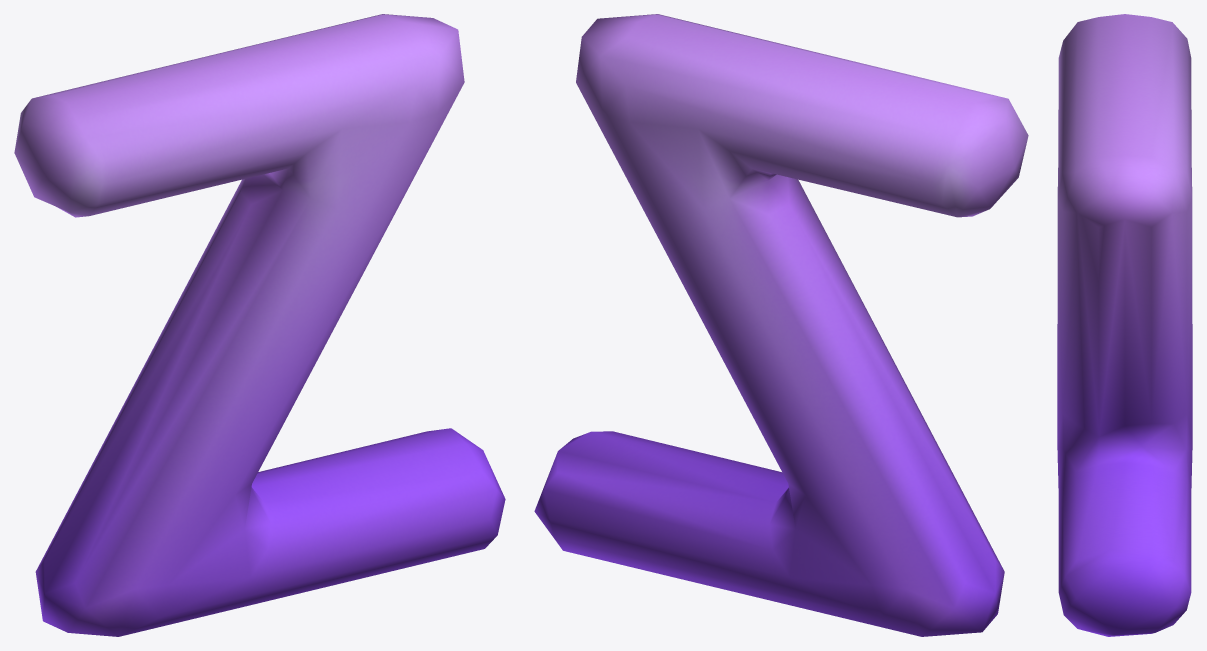
The picture shows the model from 3 angles, left to right: view 1: azimuth 30°, elevation 25°; view 2: azimuth 150°, elevation 25°; view 3: azimuth 270°, elevation 25°; orthographic projection. The views are drawn at different scales.
Parts seen in each view (by area): view 1: Processed_Mesh0_Geometry; view 2: Processed_Mesh0_Geometry; view 3: Processed_Mesh0_Geometry.
Part boxes in pixels (x1=…): Processed_Mesh0_Geometry: x1=14, y1=14, x2=505, y2=636; Processed_Mesh0_Geometry: x1=534, y1=14, x2=1028, y2=636; Processed_Mesh0_Geometry: x1=1057, y1=14, x2=1192, y2=636.
Size of what is drawn, in the model's own units: 0.0724 by 0.0821 by 0.0218.
Materials: 1 (1 with a texture image).
